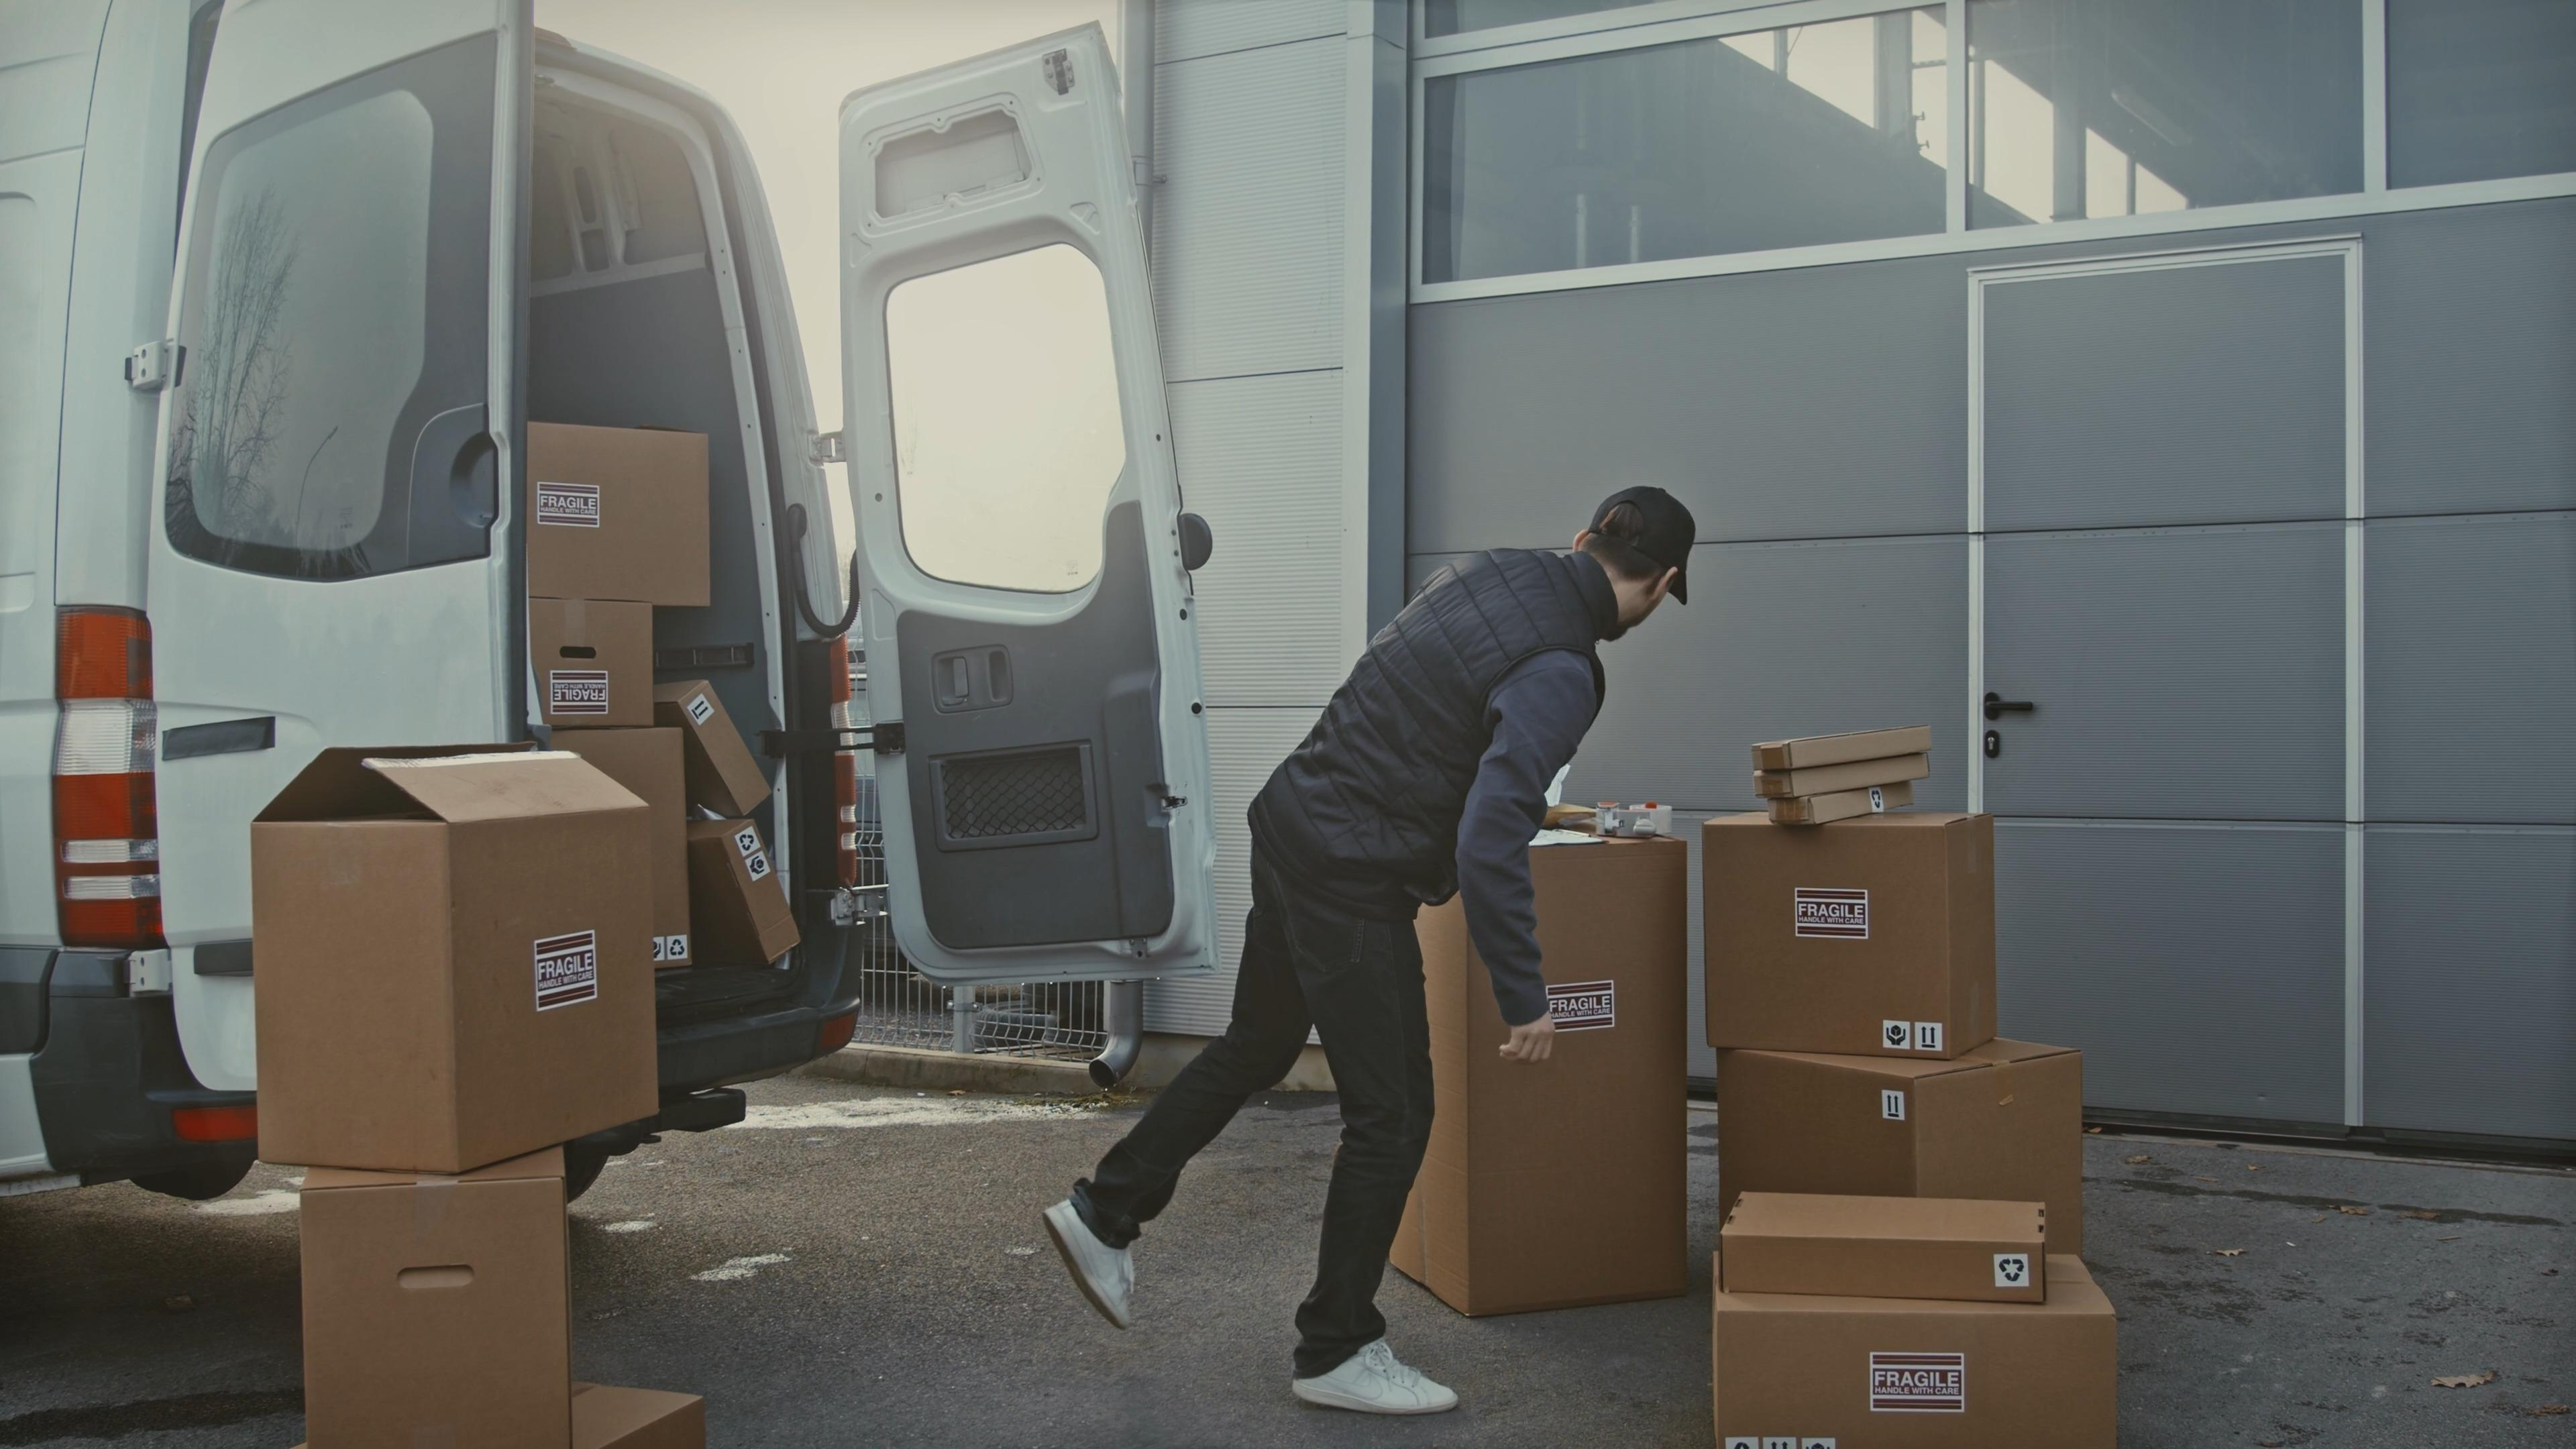-: (258, 736, 665, 1177), (1415, 842, 1674, 1318), (1707, 1253, 2120, 1449), (1707, 801, 2003, 1063), (318, 1164, 573, 1449), (1714, 1058, 2068, 1187), (1721, 1178, 2049, 1304), (524, 414, 718, 612), (513, 602, 671, 717)
